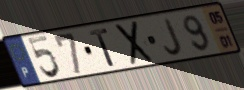5: (26, 34, 62, 80)
7: (51, 31, 84, 76)
9: (182, 13, 212, 53)
J: (162, 17, 184, 58)
T: (87, 27, 117, 68)
X: (113, 19, 156, 68)
